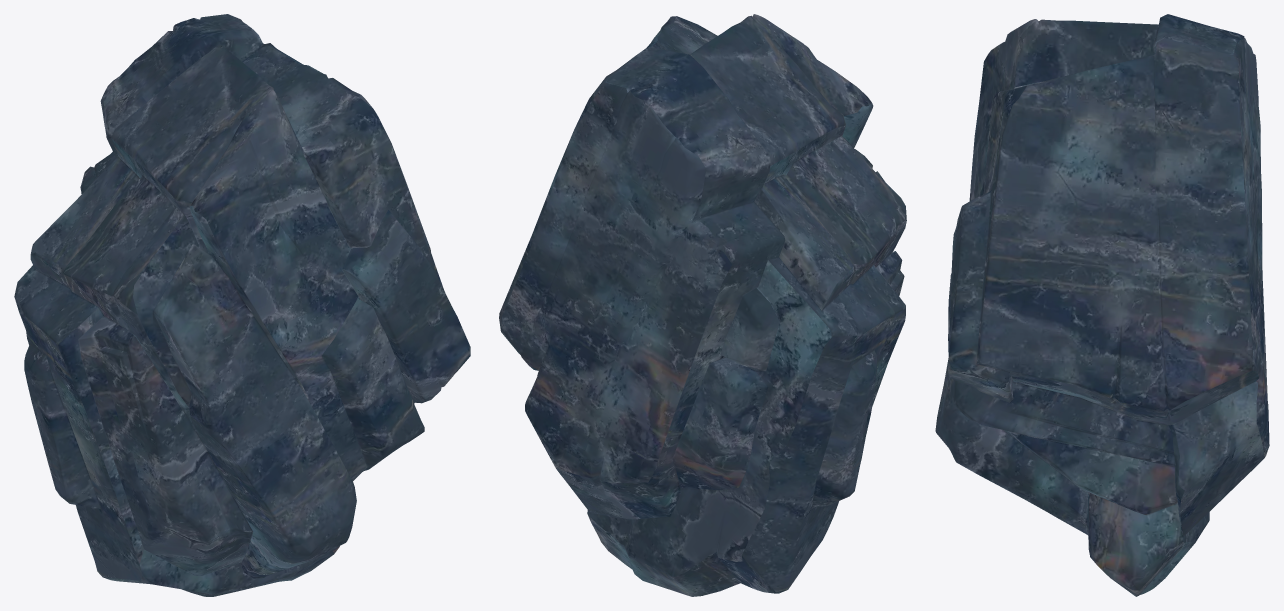
3 renders of one model, left to right at view 1: azimuth 30°, elevation 25°; view 2: azimuth 150°, elevation 25°; view 3: azimuth 270°, elevation 25°, orthographic.
Parts seen in each view (by area): view 1: SM_Cave_Rock_Small_02_LOD0; view 2: SM_Cave_Rock_Small_02_LOD0; view 3: SM_Cave_Rock_Small_02_LOD0.
Part boxes in pixels (bbox=[...]): SM_Cave_Rock_Small_02_LOD0: bbox=[14, 14, 470, 596]; SM_Cave_Rock_Small_02_LOD0: bbox=[499, 14, 906, 596]; SM_Cave_Rock_Small_02_LOD0: bbox=[935, 14, 1269, 596].
Bounding box in the file's own units: 0.934 × 1.39 × 0.7664.
Materials: 1 (1 with a texture image).
